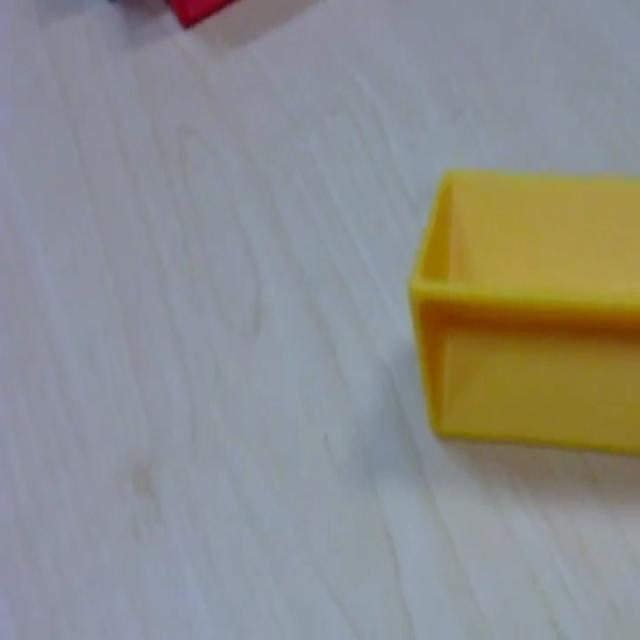yellow_block: (408, 164, 638, 456)
